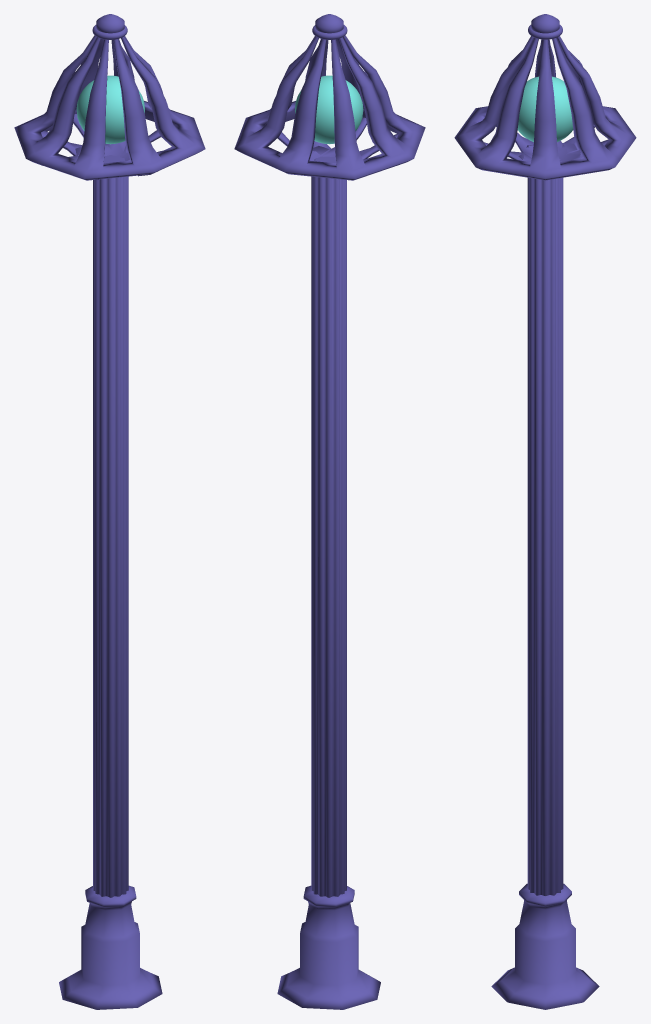
The model's file is Lampost2.fbx.
The picture shows the model from 3 angles, left to right: view 1: azimuth 30°, elevation 25°; view 2: azimuth 150°, elevation 25°; view 3: azimuth 270°, elevation 25°; orthographic projection.
Visible parts, largest first — view 1: Lampost2; view 2: Lampost2; view 3: Lampost2.
Part boxes in pixels (<box>): Lampost2: <box>14,14,205,1009</box>; Lampost2: <box>234,14,425,1009</box>; Lampost2: <box>454,14,636,1009</box>.
Size of the model in its own units: 511 by 2832 by 481.
